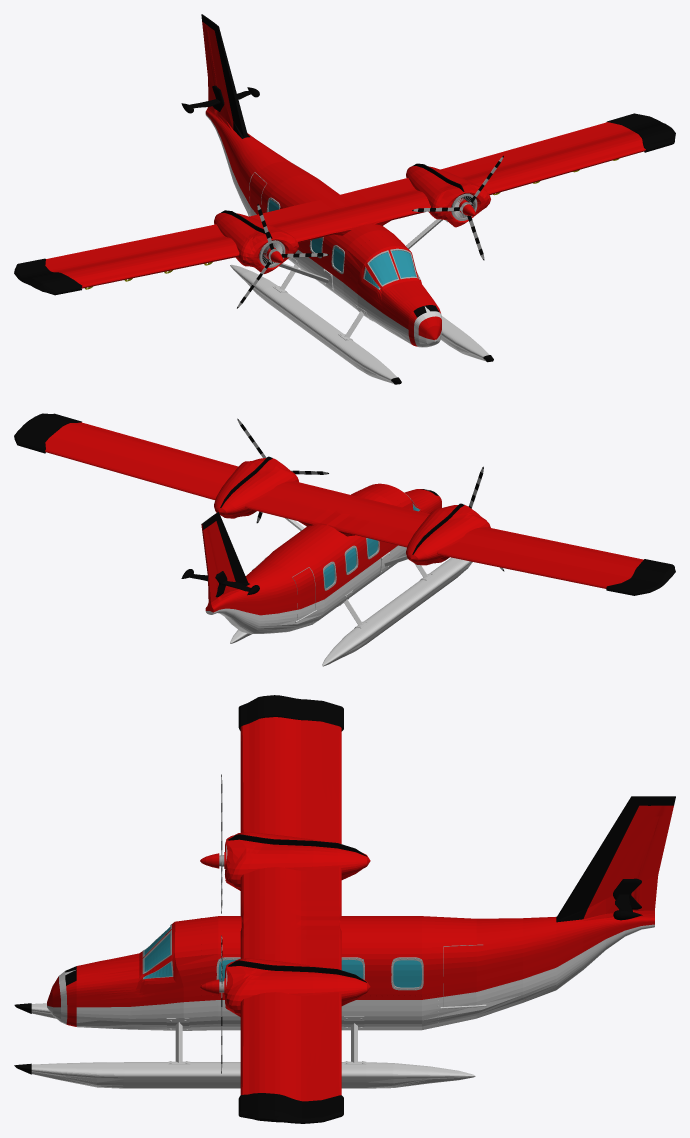
The model's file is seaplane.obj.
3 renders of one model, top to bottom at view 1: azimuth 30°, elevation 25°; view 2: azimuth 150°, elevation 25°; view 3: azimuth 270°, elevation 25°, orthographic. The views are drawn at different scales.
Parts seen in each view (by area): view 1: Seaplane.001_Cylinder.001; view 2: Seaplane.001_Cylinder.001; view 3: Seaplane.001_Cylinder.001.
Boxes of the visible parts, x1,y1,x2,y2 form: Seaplane.001_Cylinder.001: (14, 14, 675, 384); Seaplane.001_Cylinder.001: (14, 413, 675, 666); Seaplane.001_Cylinder.001: (14, 695, 675, 1123).
Bounding box in the file's own units: 17.75 × 5.12 × 11.74.
